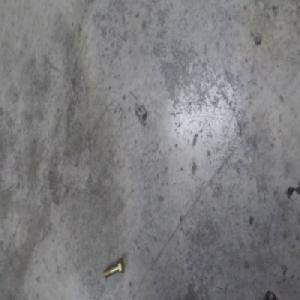Bolt: (105, 260, 127, 282)
